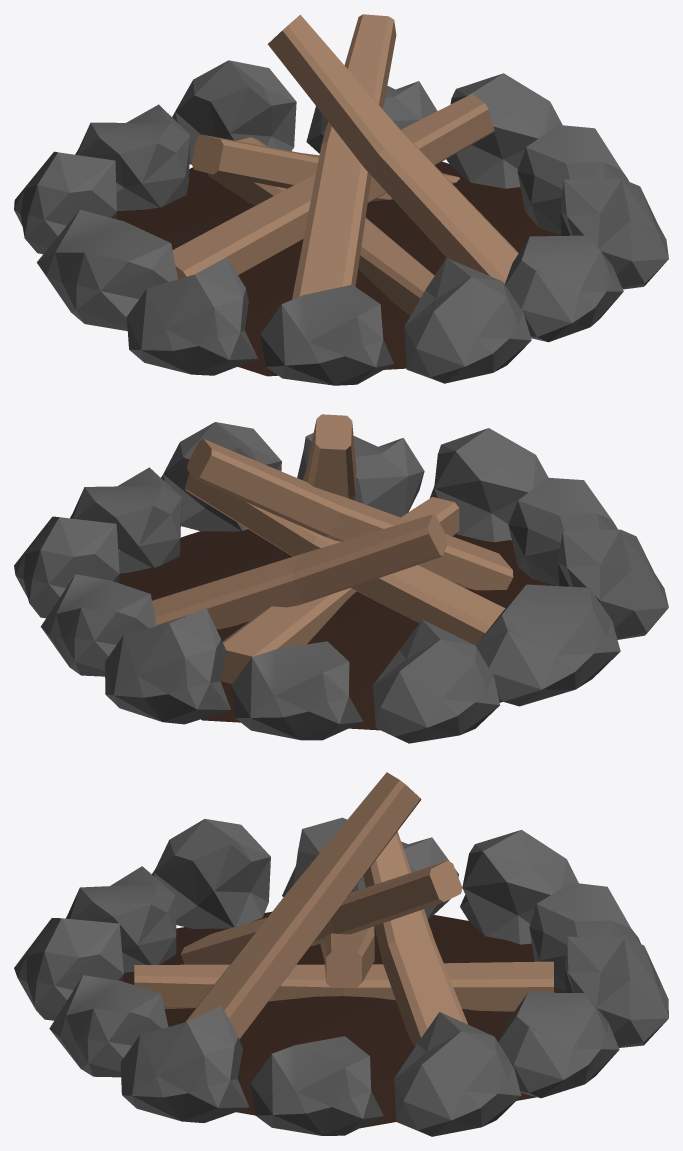
Rendered from hoguera.fbx.
The picture shows the model from 3 angles, top to bottom: view 1: azimuth 30°, elevation 25°; view 2: azimuth 150°, elevation 25°; view 3: azimuth 270°, elevation 25°; orthographic projection.
Visible parts, largest first — view 1: Hoguera; view 2: Hoguera; view 3: Hoguera.
Part boxes in pixels (<box>): Hoguera: <box>14,14,668,385</box>; Hoguera: <box>14,414,668,743</box>; Hoguera: <box>14,772,668,1136</box>.
Bounding box in the file's own units: 1.83 × 0.8307 × 1.9.
